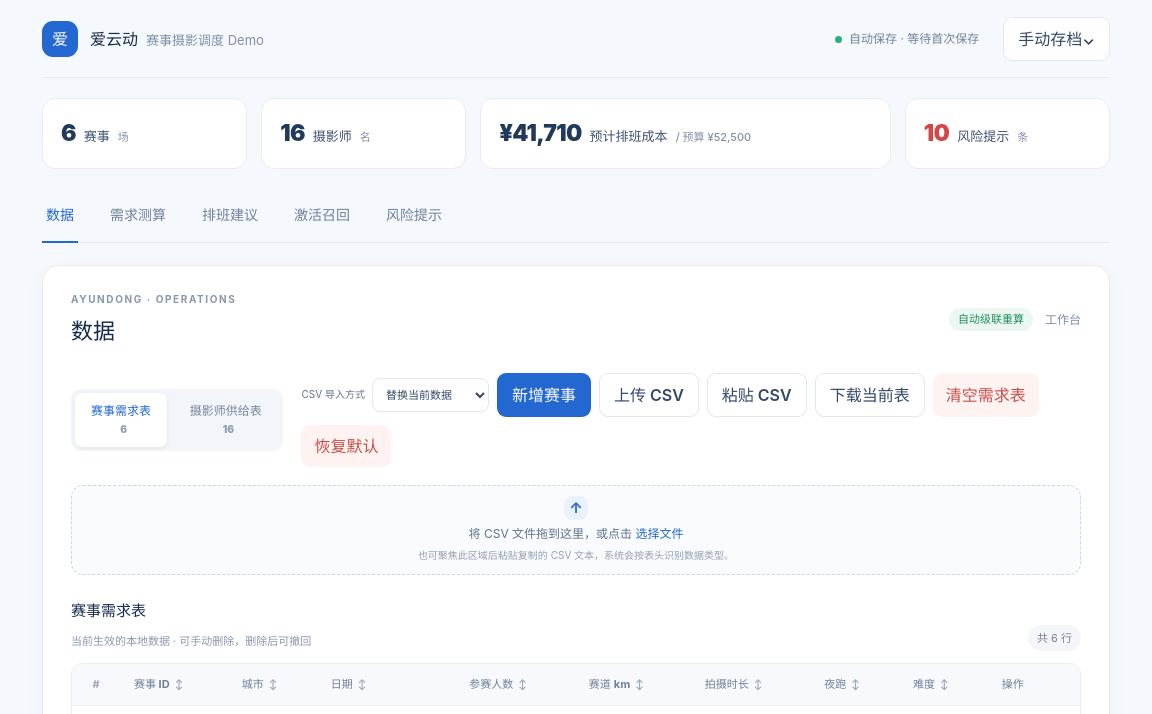
Test case: M5 staffing analysis page › shows every event, budget and the expanded auditable formula
Click the tab "需求测算" at point(138, 215), box [106,188,170,242]
(page scrolled)
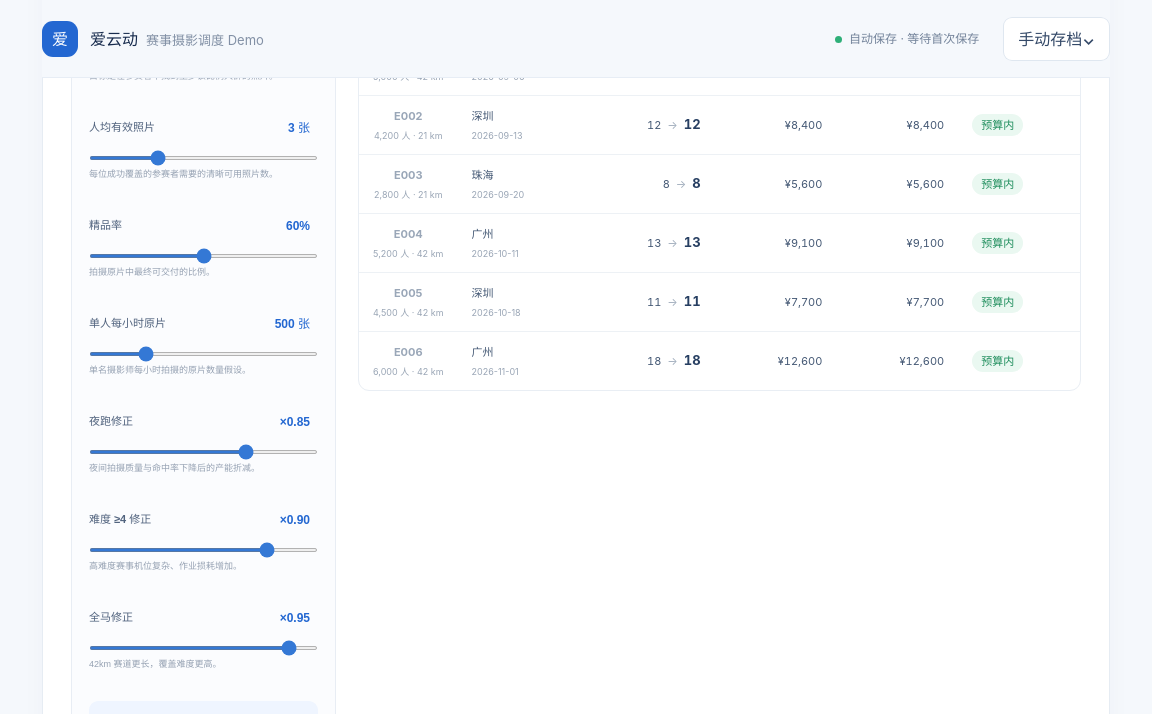
expect the row "E006" shows "18": met, box [647,354,661,368]
Click the row "E006" at point(720, 361), box [359,332,1080,390]
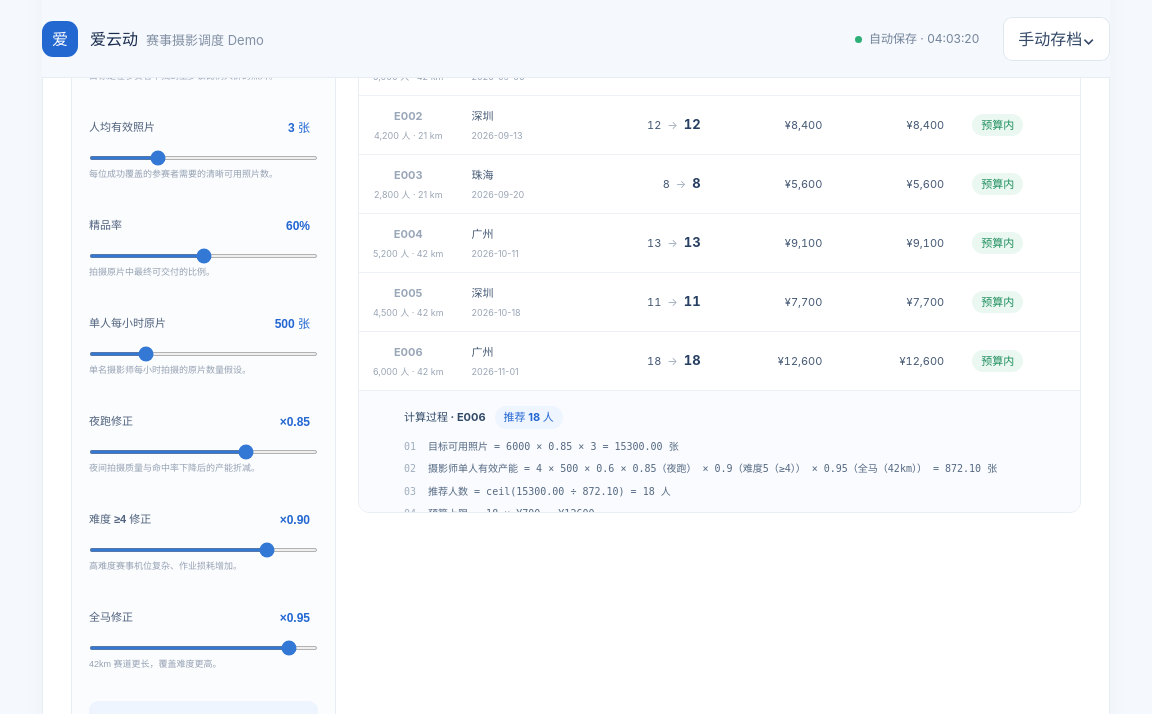
expect the text "01 目标可用照片 = 6000 × 0.85 × 3 = 15300.00 张" is shown: met, box [404,440,679,452]
expect the text "摄影师单人有效产能" is shown: met, box [428,463,997,474]
expect the text "03 推荐人数 = ceil(15300.00 ÷ 872.10) = 18 人" is shown: met, box [404,486,671,496]
